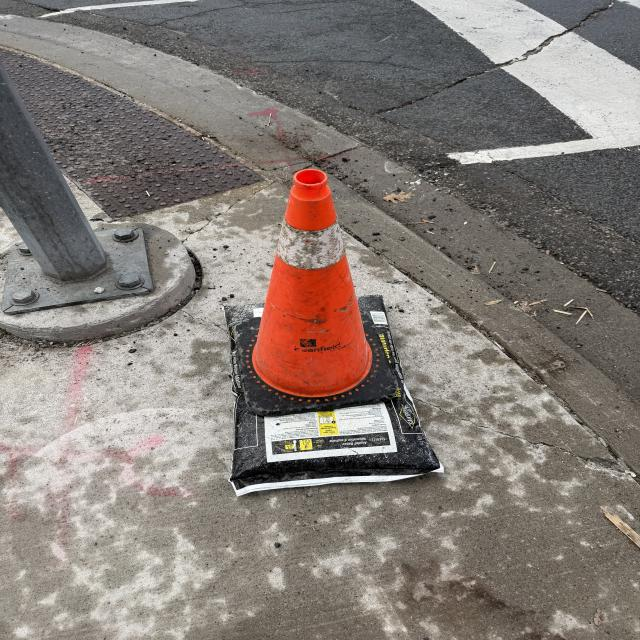Traffic Cone: (232, 169, 398, 416)
